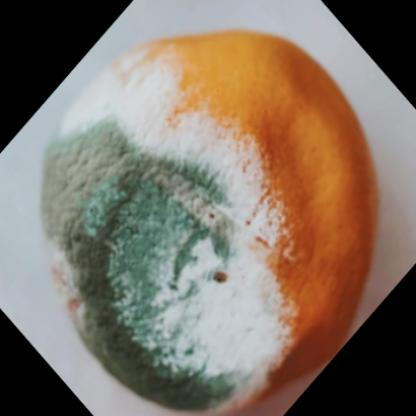rotten: (45, 30, 378, 408)
